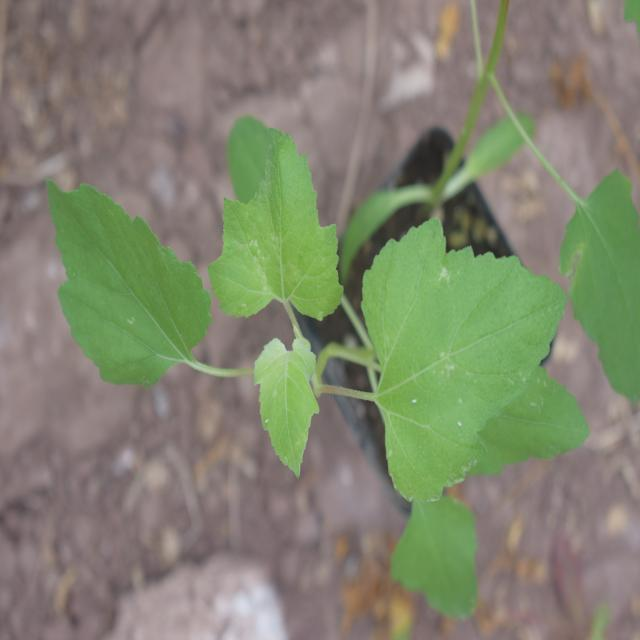cocklebur: (33, 88, 606, 526)
